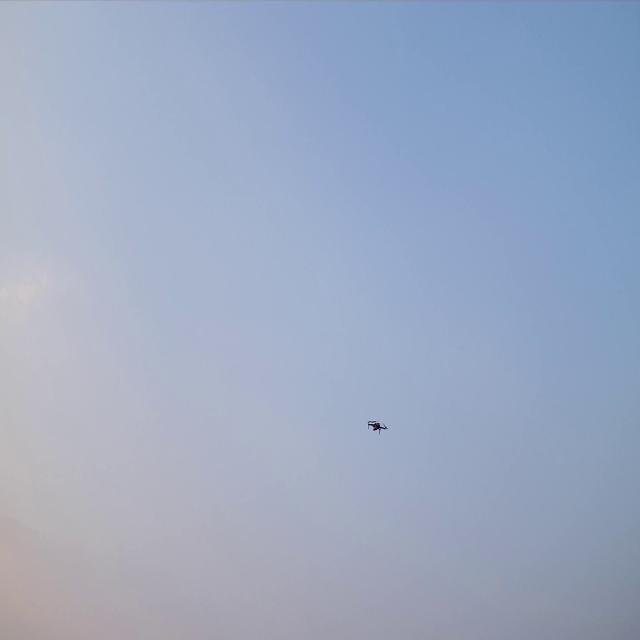UAV: (366, 417, 388, 438)
